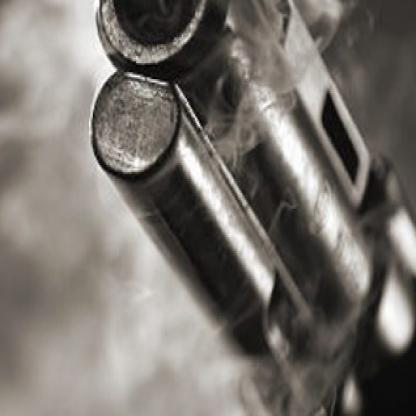gun: (104, 0, 414, 414)
